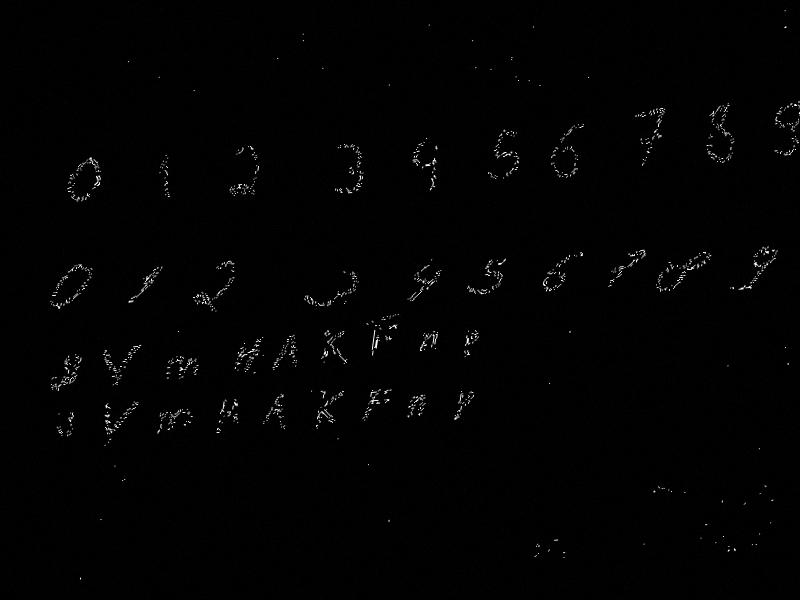0: (46, 258, 98, 312), (62, 154, 106, 204)
1: (120, 260, 167, 306), (149, 150, 178, 201)
2: (188, 259, 239, 316), (224, 141, 268, 201)
3: (300, 265, 363, 311), (326, 139, 371, 197)
4: (403, 135, 445, 196), (401, 257, 447, 303)
5: (482, 127, 527, 183), (463, 256, 510, 297)
6: (544, 120, 590, 183), (538, 250, 586, 296)
7: (621, 105, 670, 169), (602, 246, 648, 290)
8: (650, 240, 715, 297), (697, 99, 744, 169)
9: (724, 243, 782, 298), (765, 97, 800, 162)
A: (261, 391, 291, 434), (272, 331, 303, 372)
F: (360, 386, 394, 425), (367, 320, 399, 360)
H: (232, 334, 265, 376), (215, 395, 242, 435)
V: (95, 398, 142, 450), (95, 343, 144, 389)
k: (316, 326, 354, 369), (312, 385, 347, 431)
m: (160, 353, 204, 386), (154, 406, 196, 437)
n: (403, 392, 428, 420), (417, 328, 441, 356)
p: (451, 387, 476, 424), (460, 327, 482, 360)
u: (41, 350, 87, 399), (50, 407, 80, 441)
